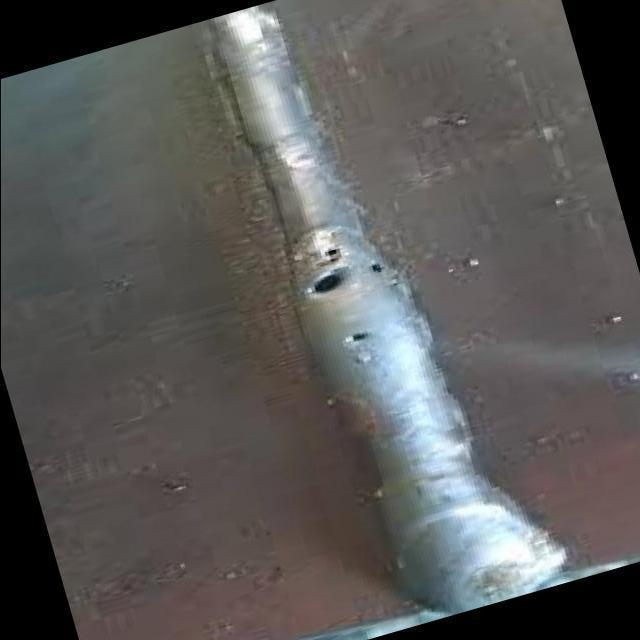defect: (304, 245, 346, 298), (360, 257, 398, 278), (341, 326, 374, 347)
